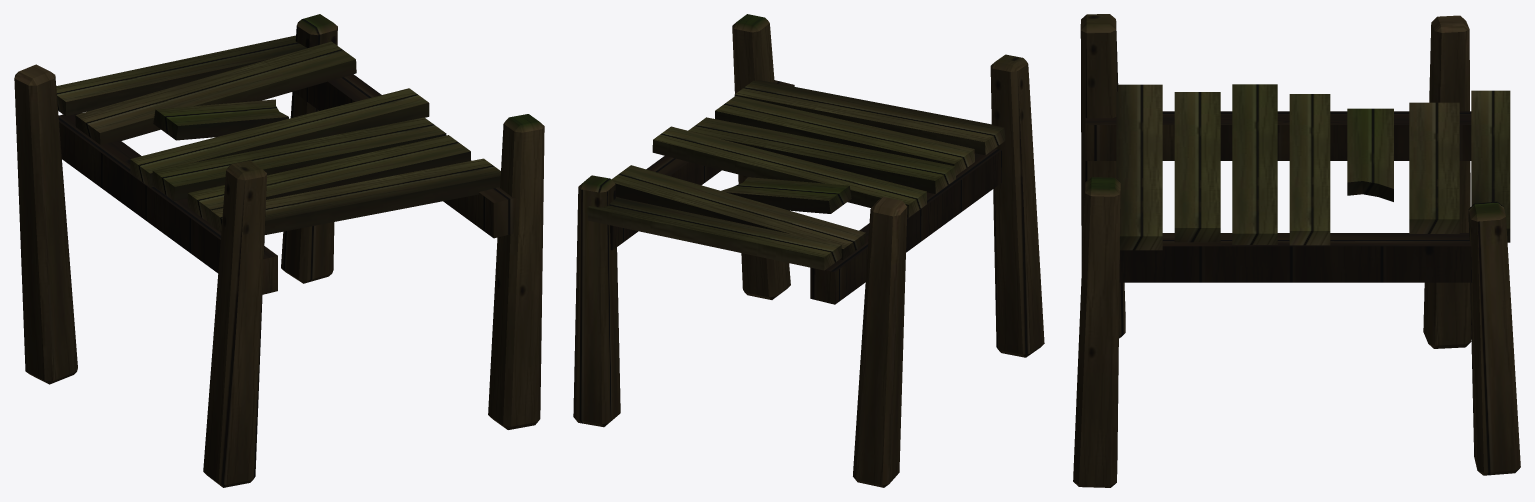
The model's file is mirewell_boardwalk.glb.
3 views of the same model, side by side, from view 1: azimuth 30°, elevation 25°; view 2: azimuth 150°, elevation 25°; view 3: azimuth 270°, elevation 25° (orthographic). The views are drawn at different scales.
Parts seen in each view (by area): view 1: mirewell_boardwalk; view 2: mirewell_boardwalk; view 3: mirewell_boardwalk.
Part boxes in pixels (box(x1,y1,x2,y2)): mirewell_boardwalk: box(14, 14, 544, 487); mirewell_boardwalk: box(573, 14, 1044, 487); mirewell_boardwalk: box(1073, 14, 1520, 487).
Bounding box in the file's own units: 1.04 × 0.9312 × 1.12.
1 material, 1 textured.
